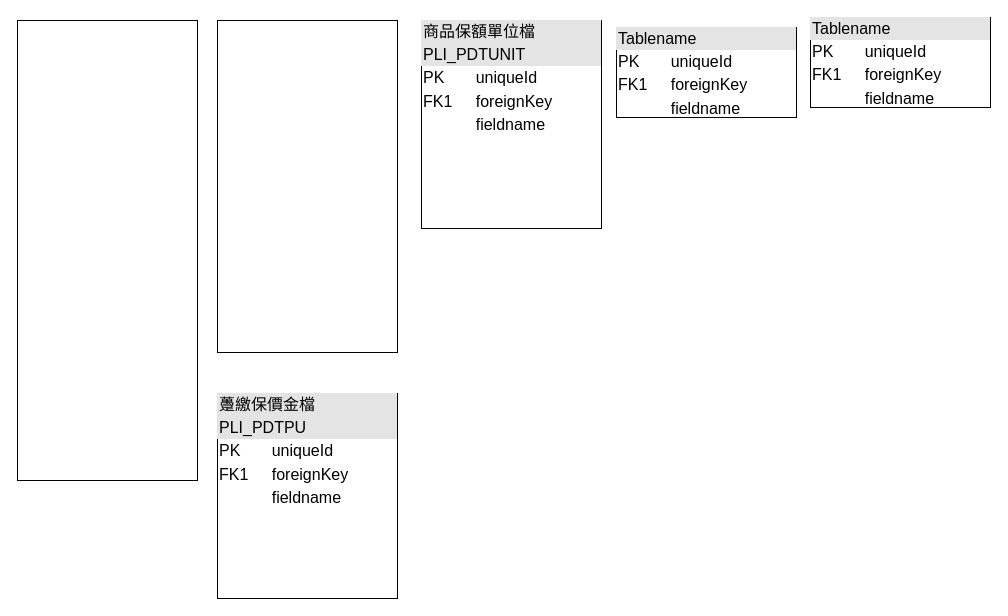
Some shapes in this 1008 by 616 pixel diagram are drawn without their labels. The shapes that lost their labels are listed below. From the top down, each one's centre as x and y in pixels, then its label:
At pixel 307 186: "保價金檔 PLI_PDTCUR PK uniqueId FK1 foreignKey fieldname".
At pixel 107 250: "客戶主檔 CUS_CUST_M PK 客戶序號 身分證字號 客戶姓名 戶長 家庭歸戶編號 名單來源 稱謂 性別".
